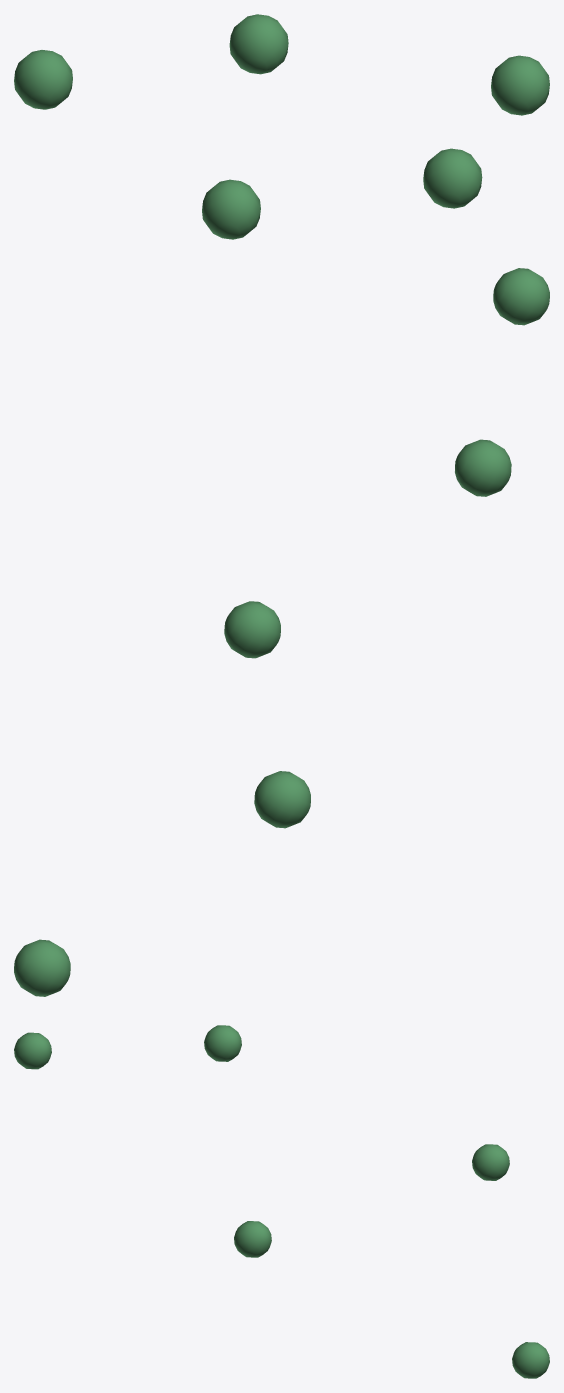
The picture shows the model from 3 angles, top to bottom: view 1: azimuth 30°, elevation 25°; view 2: azimuth 150°, elevation 25°; view 3: azimuth 270°, elevation 25°; orthographic projection. The views are drawn at different scales.
Visible parts, largest first — view 1: 右侧胸肌间淋巴结; view 2: 右侧胸肌间淋巴结; view 3: 右侧胸肌间淋巴结.
Part boxes in pixels (x1,y1,x2,y2): 右侧胸肌间淋巴结: (14,14,549,239); 右侧胸肌间淋巴结: (14,268,549,996); 右侧胸肌间淋巴结: (14,1025,549,1378).
Bounding box in the file's own units: 0.0199 × 0.0345 × 0.0539.
